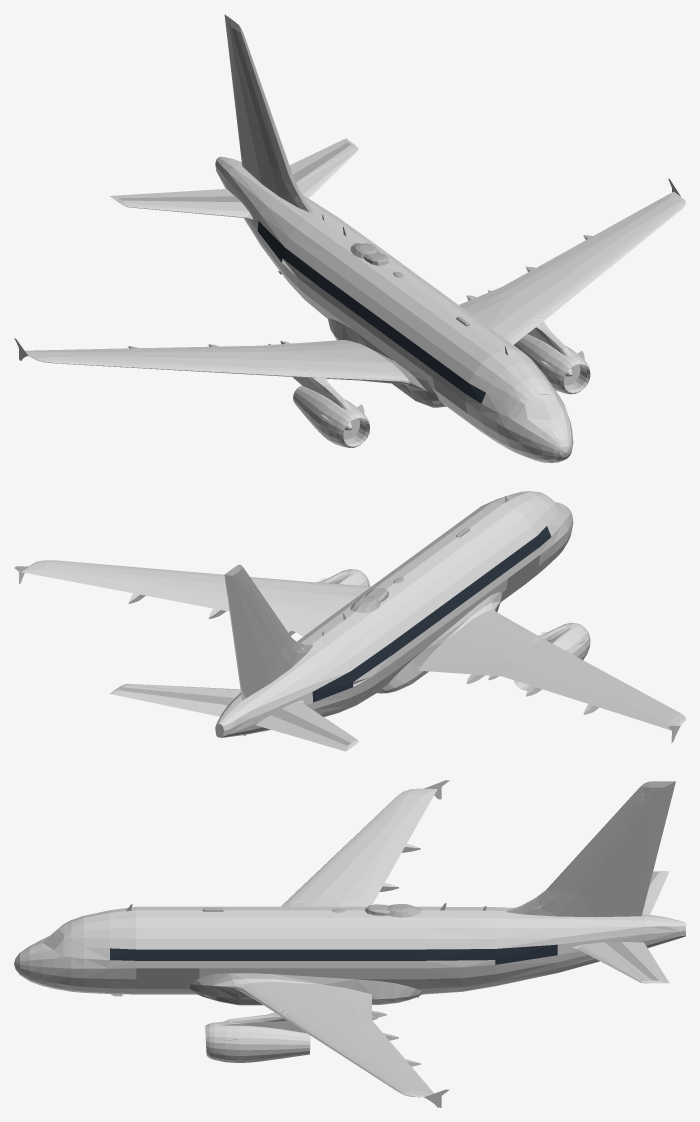
3 views of the same model, one above another, from view 1: azimuth 30°, elevation 25°; view 2: azimuth 150°, elevation 25°; view 3: azimuth 270°, elevation 25° (orthographic). The views are drawn at different scales.
Parts seen in each view (by area): view 1: 3d66-Editable_mesh-24501941-002, 3d66-Editable_mesh-24501941-006, 3d66-Editable_mesh-24501941-013, 3d66-Editable_mesh-24501941-012, 3d66-Editable_mesh-24501941-004, 3d66-Editable_mesh-24501941-005, 3d66-Editable_mesh-24501941-010, 3d66-Editable_mesh-24501941-001; view 2: 3d66-Editable_mesh-24501941-002, 3d66-Editable_mesh-24501941-006, 3d66-Editable_mesh-24501941-013, 3d66-Editable_mesh-24501941-012, 3d66-Editable_mesh-24501941-004, 3d66-Editable_mesh-24501941-005, 3d66-Editable_mesh-24501941-001; view 3: 3d66-Editable_mesh-24501941-002, 3d66-Editable_mesh-24501941-013, 3d66-Editable_mesh-24501941-006, 3d66-Editable_mesh-24501941-012, 3d66-Editable_mesh-24501941-010, 3d66-Editable_mesh-24501941-005, 3d66-Editable_mesh-24501941-004, 3d66-Editable_mesh-24501941-001.
Part boxes in pixels (x1=…): 3d66-Editable_mesh-24501941-002: x1=14, y1=16, x2=680, y2=462; 3d66-Editable_mesh-24501941-006: x1=25, y1=191, x2=685, y2=378; 3d66-Editable_mesh-24501941-013: x1=119, y1=14, x2=350, y2=212; 3d66-Editable_mesh-24501941-012: x1=257, y1=221, x2=485, y2=403; 3d66-Editable_mesh-24501941-004: x1=52, y1=357, x2=309, y2=377; 3d66-Editable_mesh-24501941-005: x1=539, y1=205, x2=680, y2=319; 3d66-Editable_mesh-24501941-010: x1=392, y1=378, x2=466, y2=412; 3d66-Editable_mesh-24501941-001: x1=278, y1=215, x2=508, y2=355; 3d66-Editable_mesh-24501941-002: x1=14, y1=491, x2=680, y2=751; 3d66-Editable_mesh-24501941-006: x1=21, y1=560, x2=685, y2=730; 3d66-Editable_mesh-24501941-013: x1=119, y1=564, x2=350, y2=745; 3d66-Editable_mesh-24501941-012: x1=312, y1=526, x2=551, y2=702; 3d66-Editable_mesh-24501941-004: x1=539, y1=639, x2=679, y2=714; 3d66-Editable_mesh-24501941-005: x1=52, y1=560, x2=307, y2=583; 3d66-Editable_mesh-24501941-001: x1=243, y1=496, x2=507, y2=736; 3d66-Editable_mesh-24501941-002: x1=14, y1=780, x2=685, y2=1107; 3d66-Editable_mesh-24501941-013: x1=506, y1=781, x2=675, y2=980; 3d66-Editable_mesh-24501941-006: x1=250, y1=788, x2=437, y2=1097; 3d66-Editable_mesh-24501941-012: x1=110, y1=944, x2=557, y2=964; 3d66-Editable_mesh-24501941-010: x1=136, y1=968, x2=263, y2=1005; 3d66-Editable_mesh-24501941-005: x1=282, y1=1013, x2=407, y2=1091; 3d66-Editable_mesh-24501941-004: x1=283, y1=794, x2=407, y2=904; 3d66-Editable_mesh-24501941-001: x1=111, y1=903, x2=486, y2=997.
Bounding box in the file's own units: 40.68 × 13.97 × 37.34.
